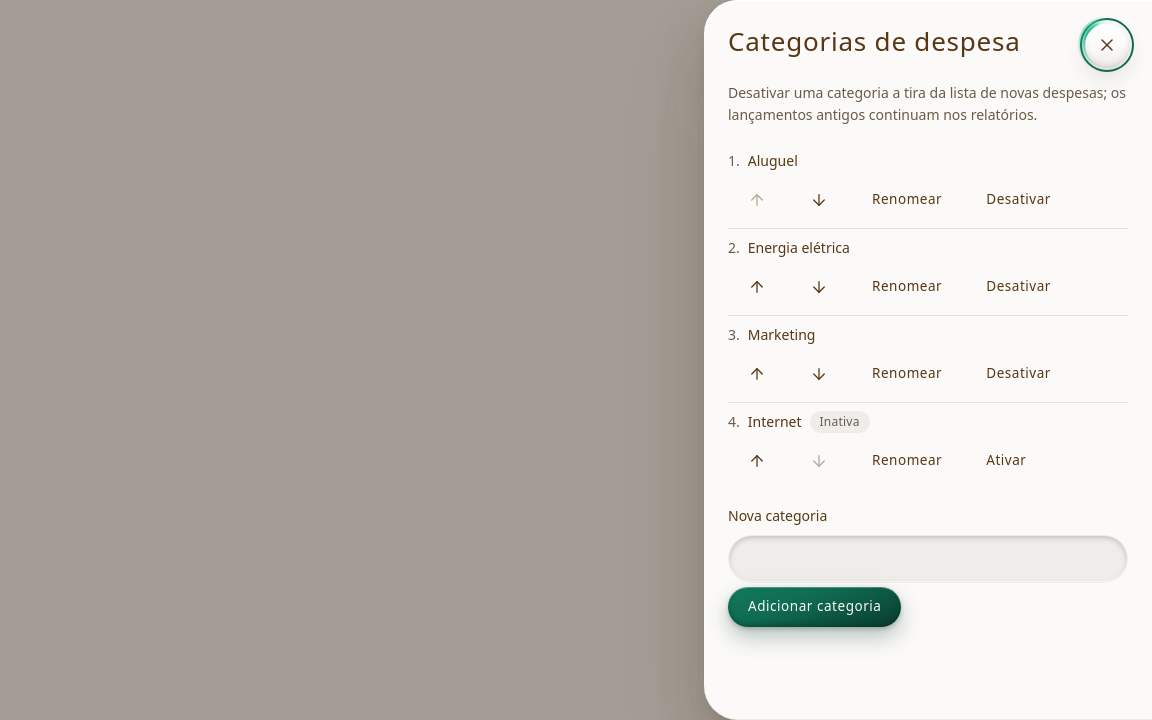
Test: CategoriesDrawer (GES-19) › shows the API message when the new name duplicates another (409)
Check: the text "Energia elétrica" is shown, box [748,238,850,257]
Click the button with aria-label "Renomear Marketing" at coordinates (907, 374), box [852,354,962,394]
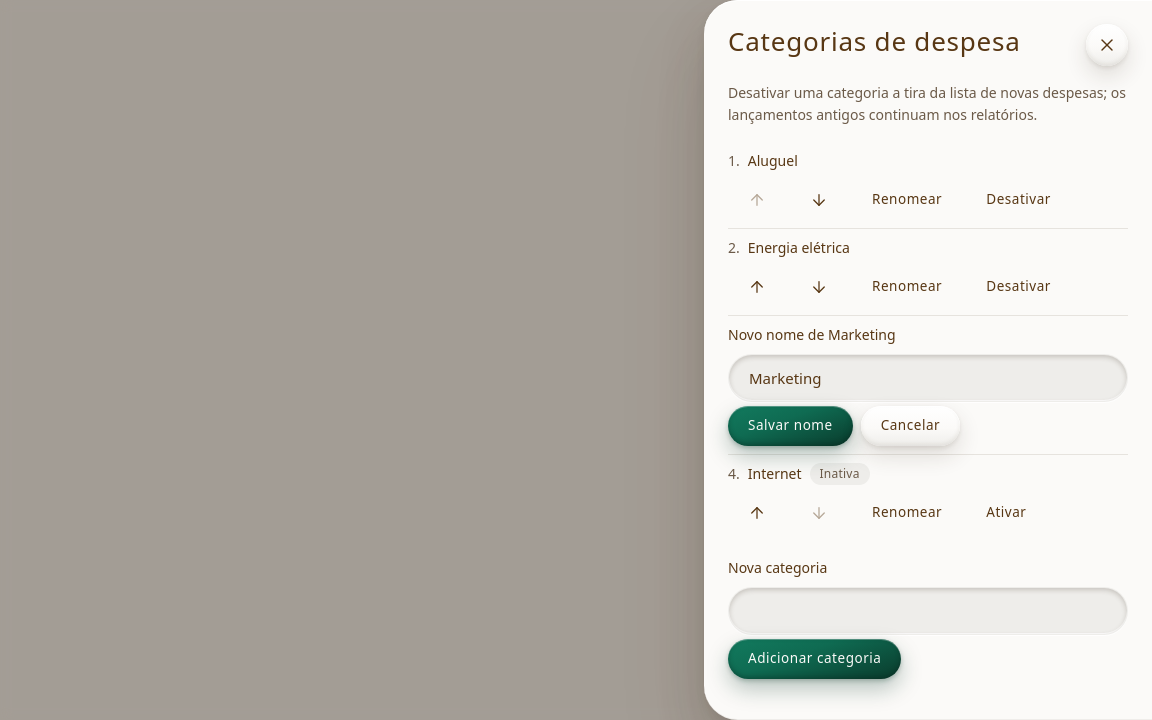
Replace the text in the field labelled "Novo nome de Marketing" with "Aluguel" at coordinates (928, 378), box [728,354,1128,402]
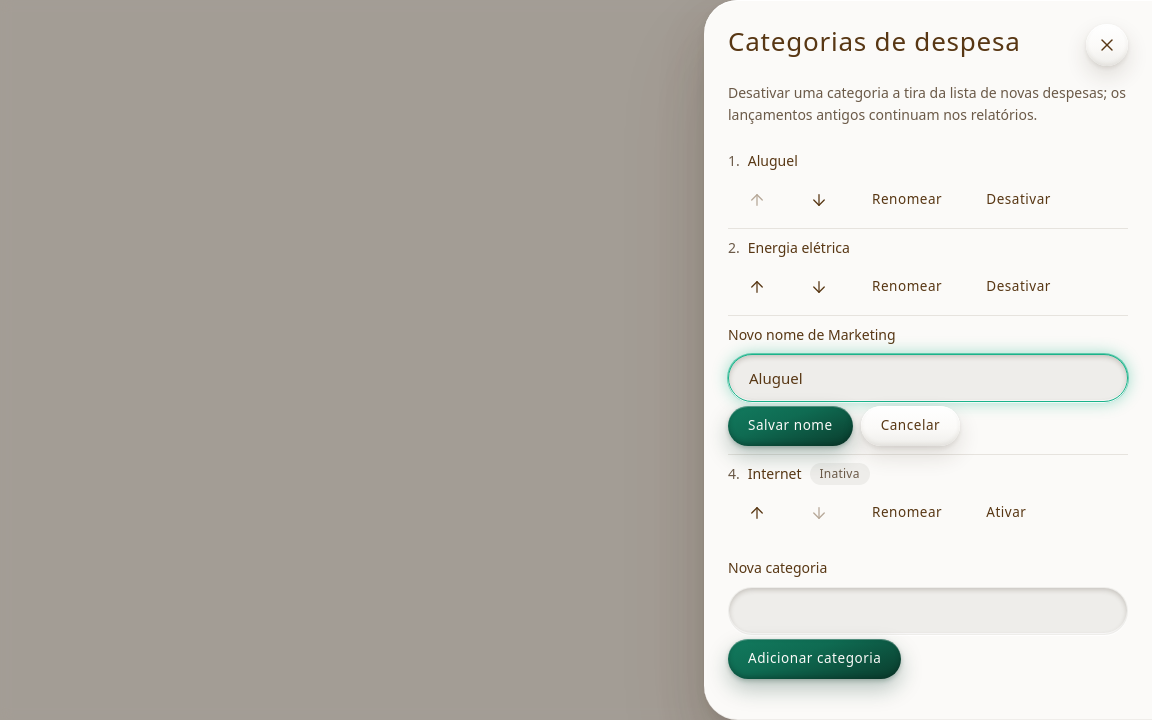
Click the button "Salvar nome" at coordinates (790, 426), box [728,406,853,446]
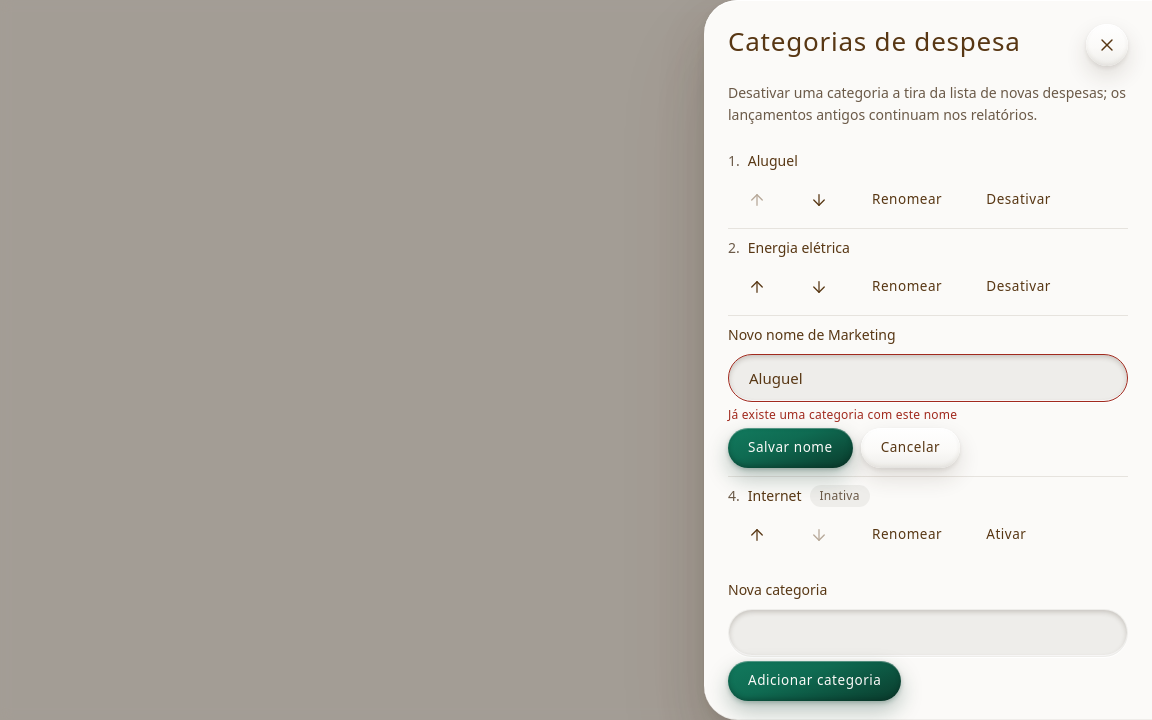
Check: the text "Já existe uma categoria com este nome" is shown, box [728,406,957,423]
